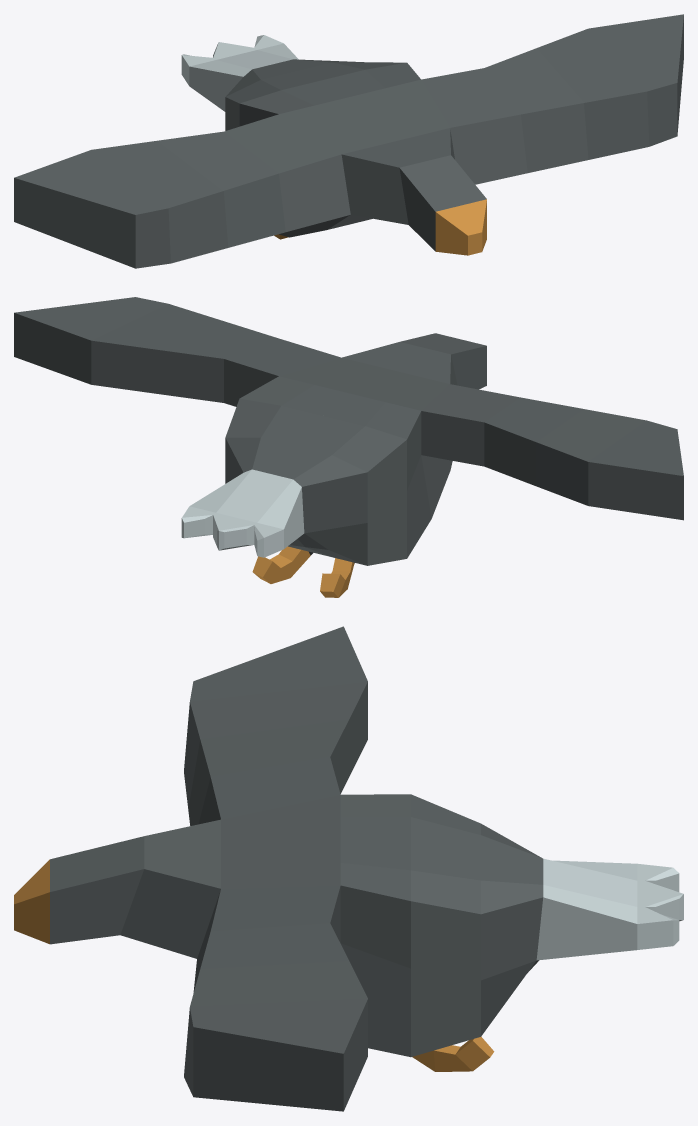
File: pigeon.fbx
3 renders of one model, top to bottom at view 1: azimuth 30°, elevation 25°; view 2: azimuth 150°, elevation 25°; view 3: azimuth 270°, elevation 25°, orthographic. The views are drawn at different scales.
Parts seen in each view (by area): view 1: Cube; view 2: Cube; view 3: Cube.
Boxes of the visible parts, box(x1,y1,x2,y2) form: Cube: box(14, 14, 683, 268); Cube: box(14, 297, 683, 597); Cube: box(14, 626, 683, 1111).
Bounding box in the file's own units: 1628 × 1079 × 377.
